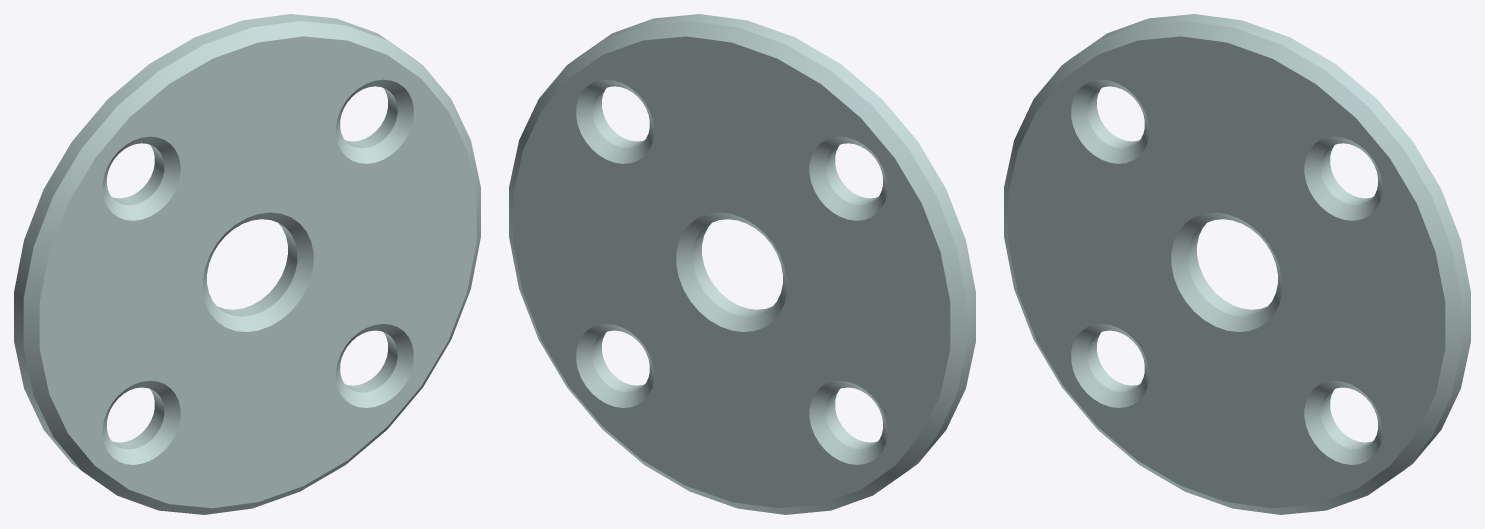
File: A4T HE Duct - TZ-V6-2.0 [Stock Nozzle] - Spacer.gltf
3 renders of one model, left to right at view 1: azimuth 30°, elevation 25°; view 2: azimuth 150°, elevation 25°; view 3: azimuth 330°, elevation 25°, orthographic.
Parts seen in each view (by area): view 1: TZ-V6-2.0 Spacer; view 2: TZ-V6-2.0 Spacer; view 3: TZ-V6-2.0 Spacer.
Part boxes in pixels (x1,y1,x2,y2): TZ-V6-2.0 Spacer: [14, 14, 480, 514]; TZ-V6-2.0 Spacer: [509, 14, 975, 514]; TZ-V6-2.0 Spacer: [1004, 14, 1470, 514].
Size of the model in its own units: 0.0222 by 0.0223 by 0.0018.
